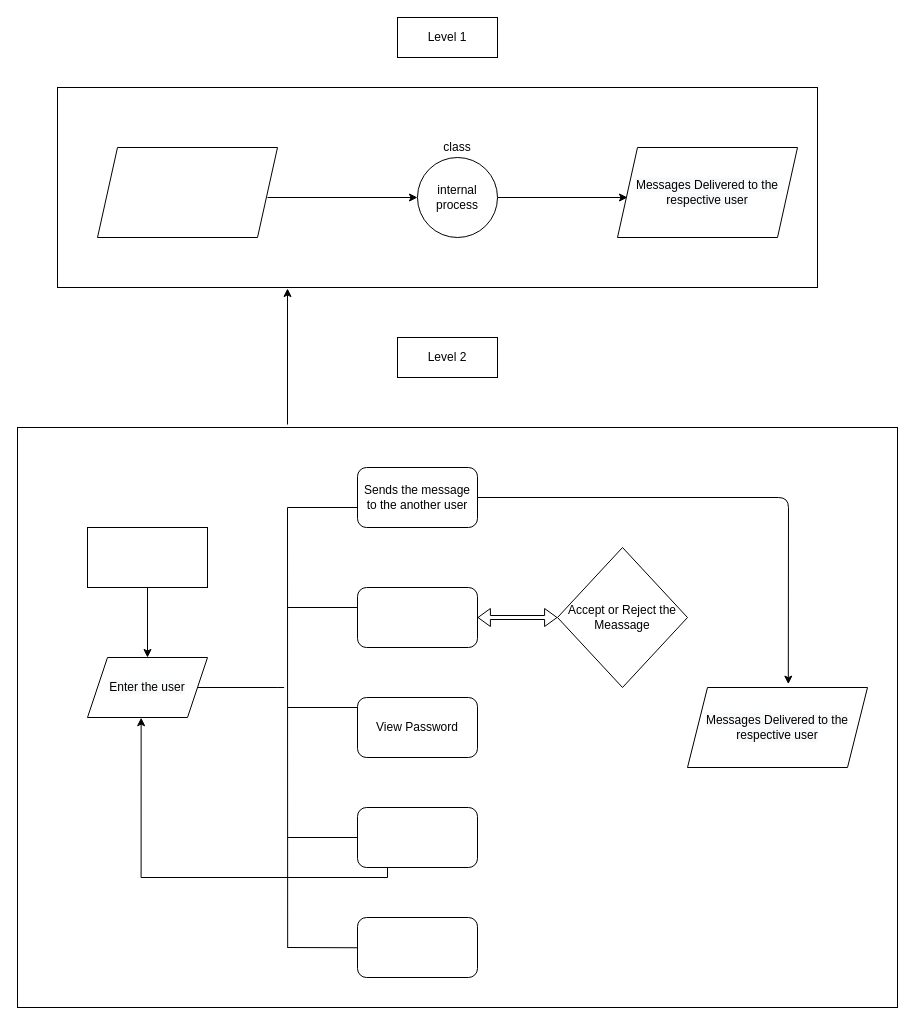
Image size: 915x1025. Some labels were removed from this diagram. Each missing label, with the box of its shape:
Enter the users Enter the Messages: (96, 146, 278, 238)
Exit from the Appllication: (356, 916, 478, 978)
Login: (86, 526, 208, 588)
Logout: (356, 806, 478, 868)
View Messages and Requests: (356, 586, 478, 648)
